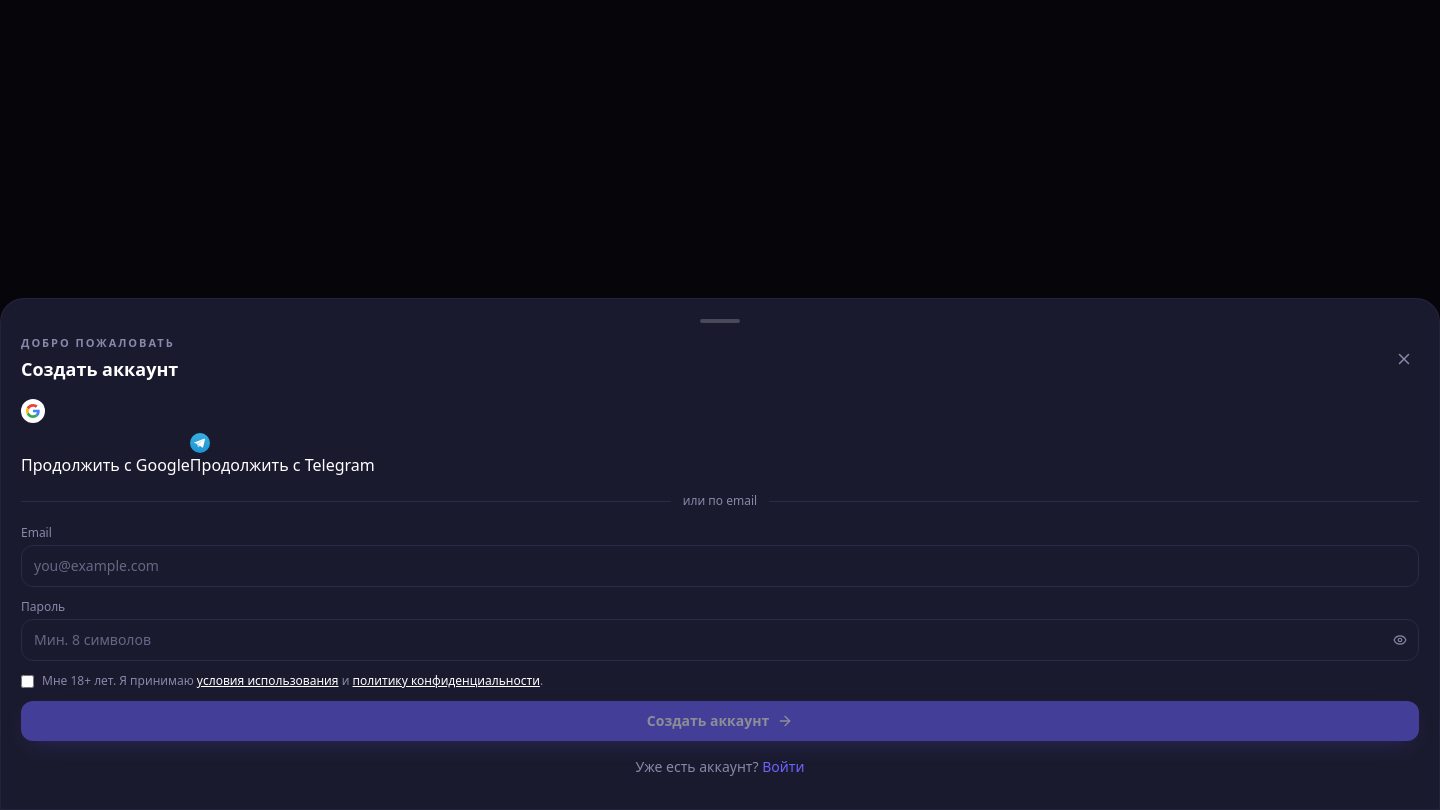
Test: §5: LoginSheet — вход и регистрация в одном листе › индикатор силы пароля появляется по мере ввода
expect the text "Надёжный пароль" is not shown: met
Type "Str0ng!pass" into the password field with placeholder "Мин. 8 символов" at (720, 640), box [21,619,1419,661]
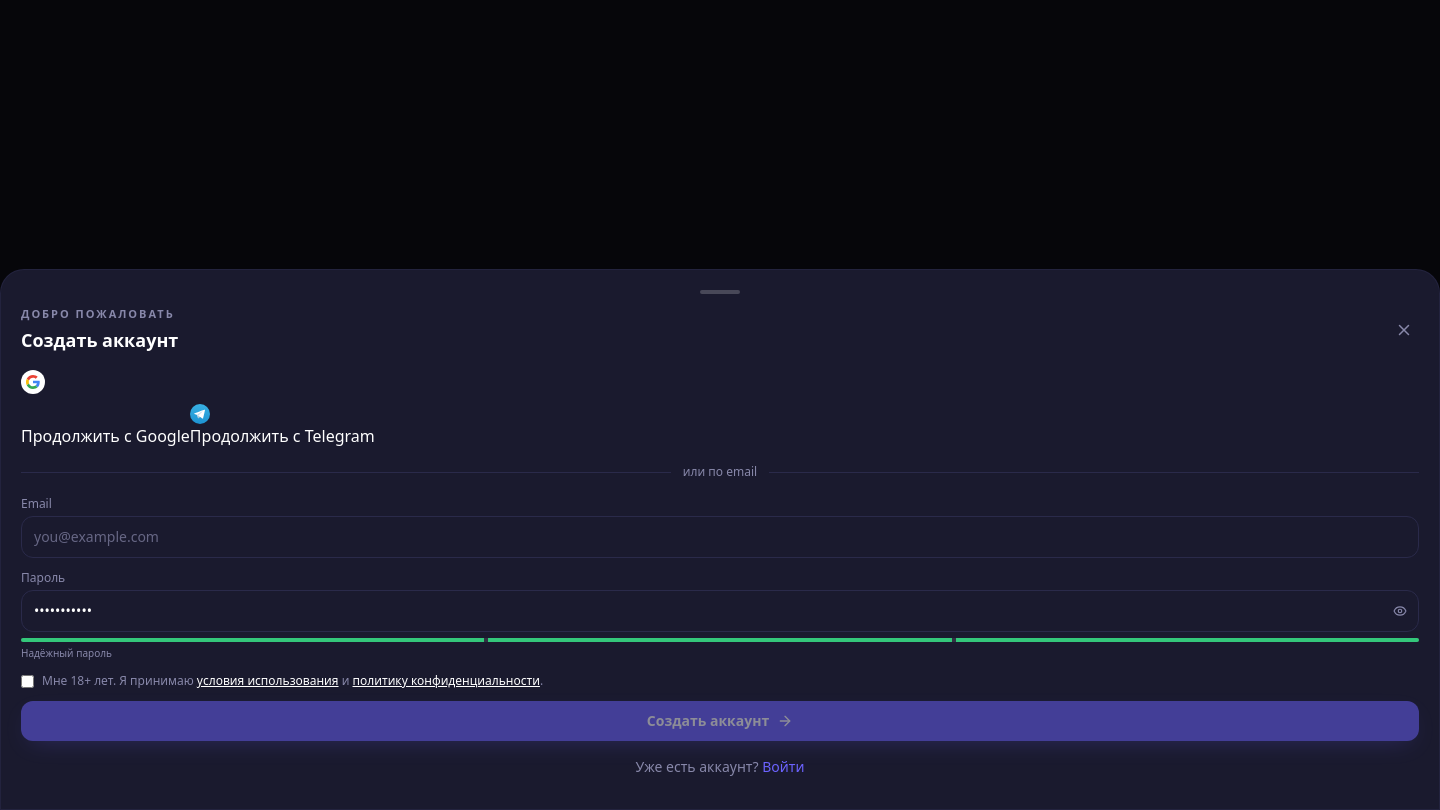
expect the text "Надёжный пароль" is shown: met, box [21,646,112,660]
